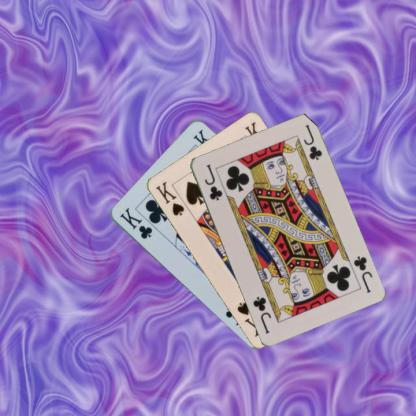Jc: (350, 253, 374, 294), (202, 161, 224, 202)
Kc: (116, 204, 154, 240)
Ks: (152, 179, 186, 217)
